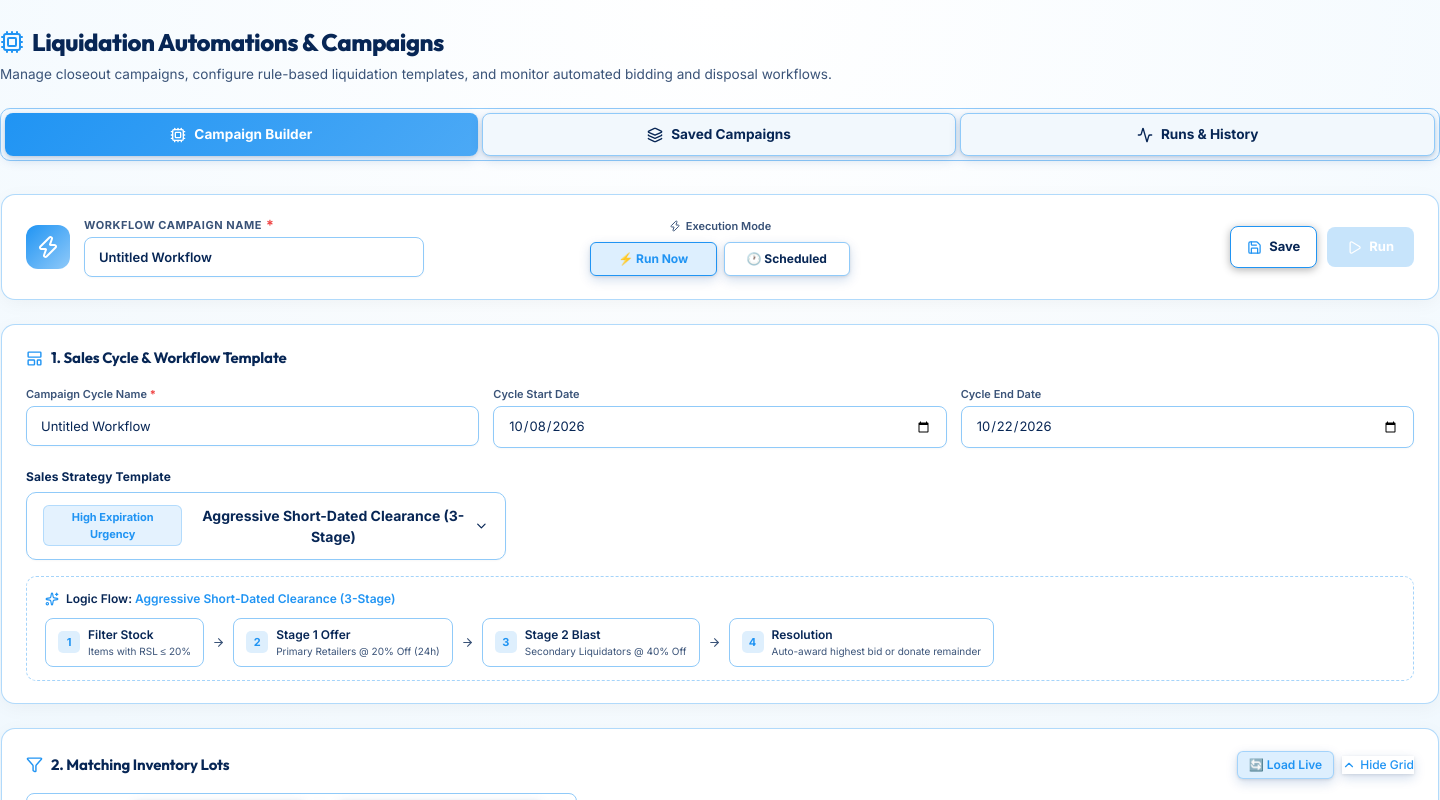
Issue #40 Integration: WorkflowsView & Campaign Studio › should open Matched Inventory Scope modal with in-modal search and close via footer
Click the button "Saved Campaigns".
click(719, 135)  # box [482,113,956,156]
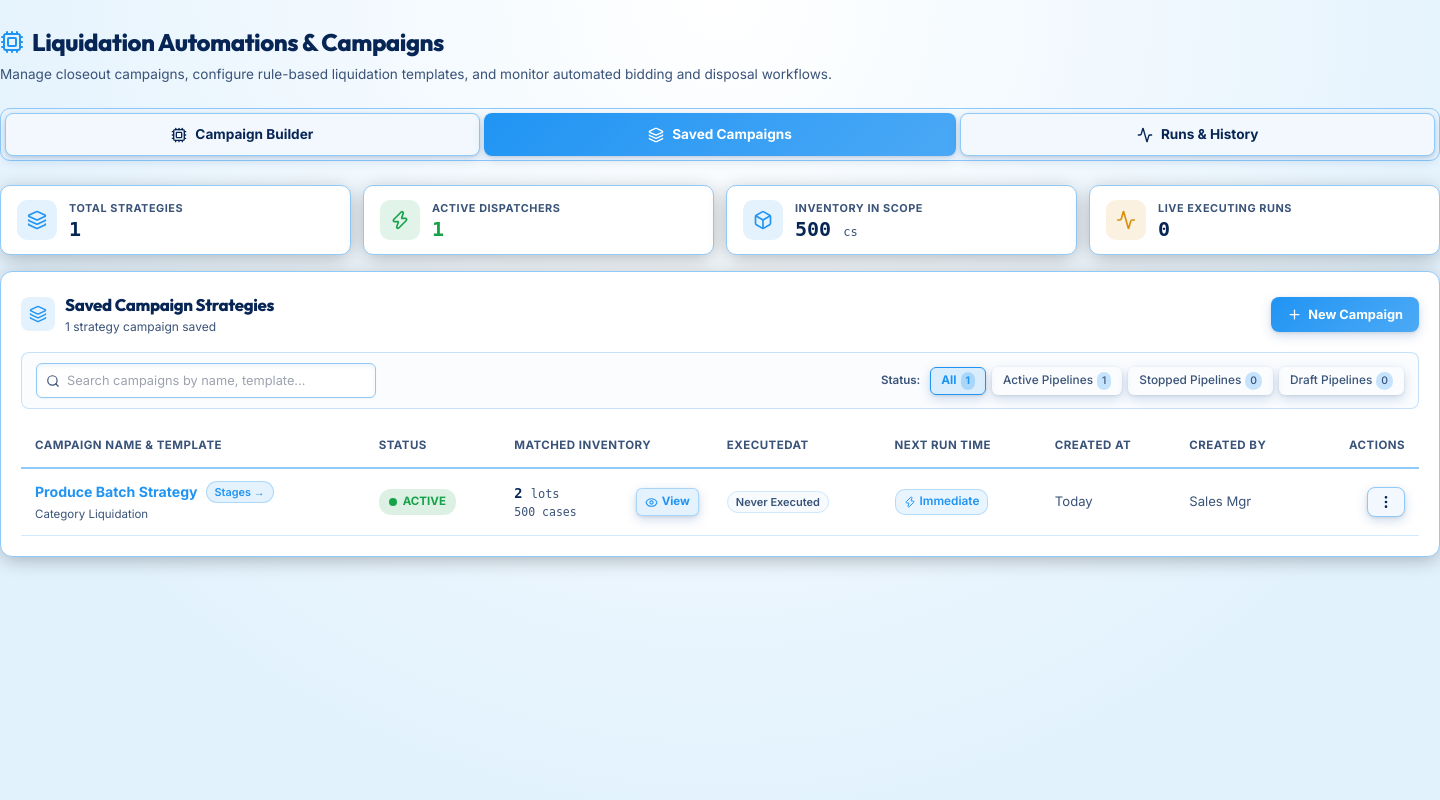
# Click View button in Matched Inventory column
Click the button "View".
click(667, 502)  # box [636,488,699,516]
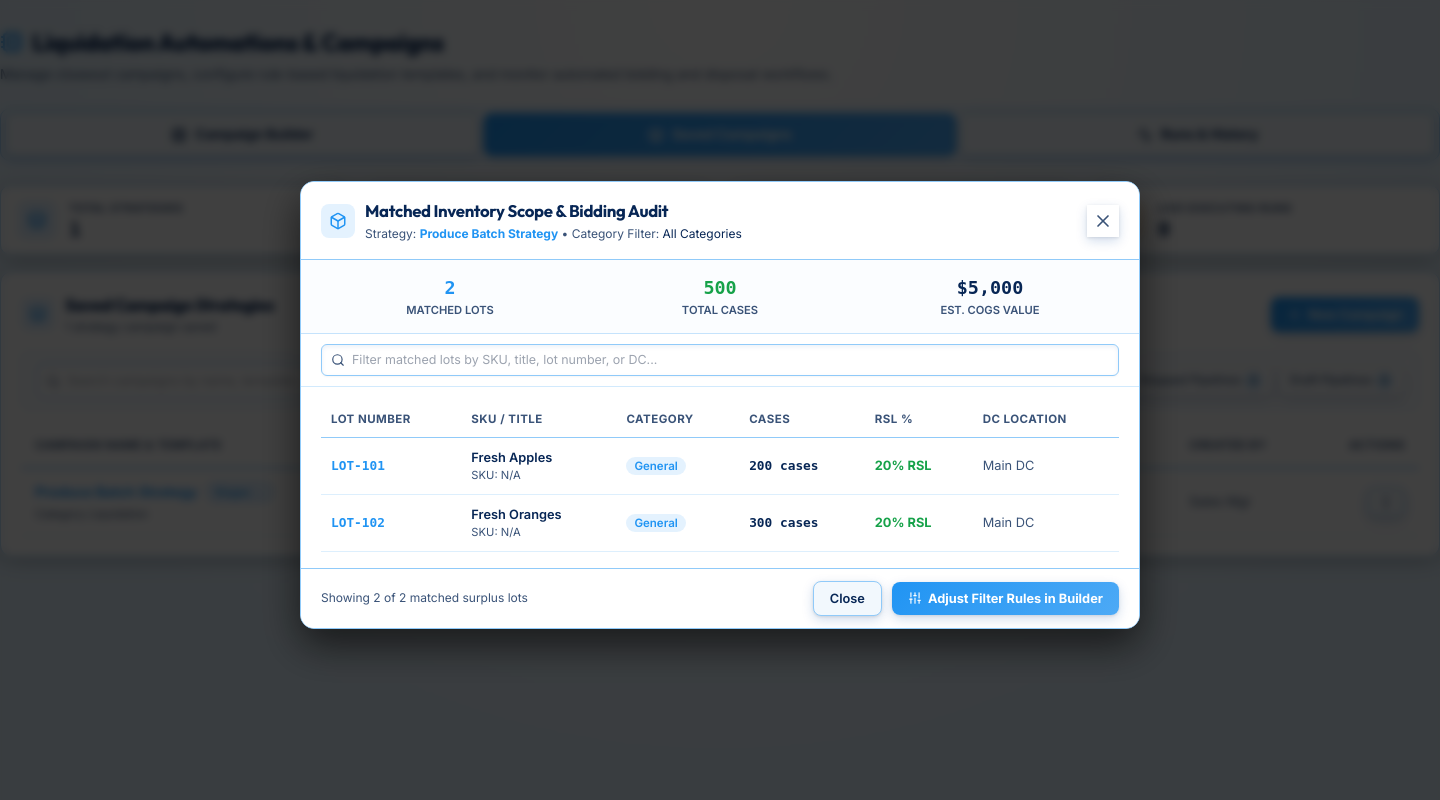
expect the heading "Matched Inventory Scope & Bidding Audit" is shown: met, box [365,200,668,221]
expect the text "LOT-101" is shown: met, box [321,437,461,494]
expect the text "LOT-102" is shown: met, box [321,494,461,551]
# Test in-modal search
Type "Oranges" into the field with placeholder "Filter matched lots by SKU, title, lot number, or DC...".
click(720, 360); type("Oranges")  # box [321,344,1119,376]
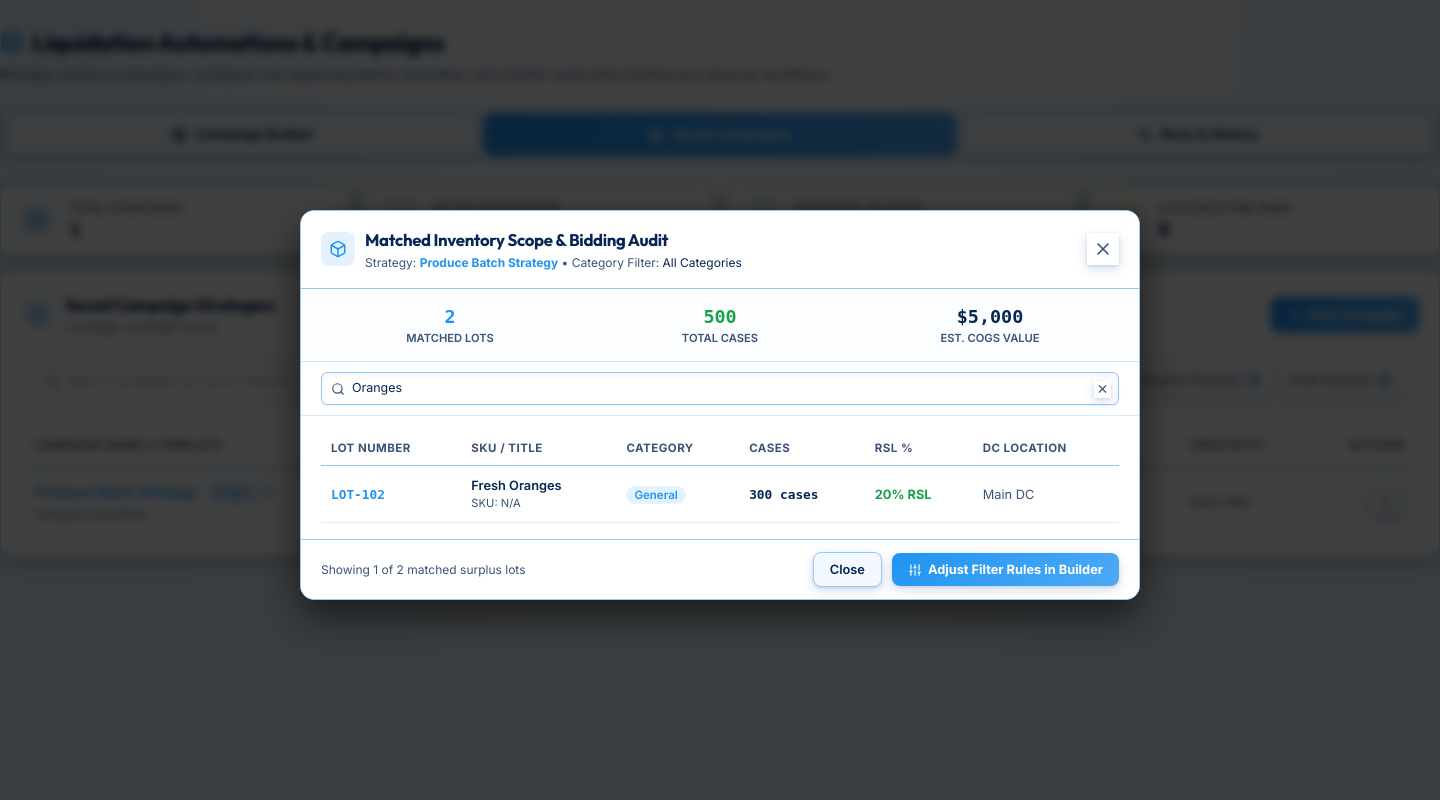
expect the text "LOT-102" is shown: met, box [321,466,461,523]
expect the text "LOT-101" is gone: met
# Click Close from the ergonomic modal footer
Click the button "Close".
click(847, 570)  # box [813,552,882,587]
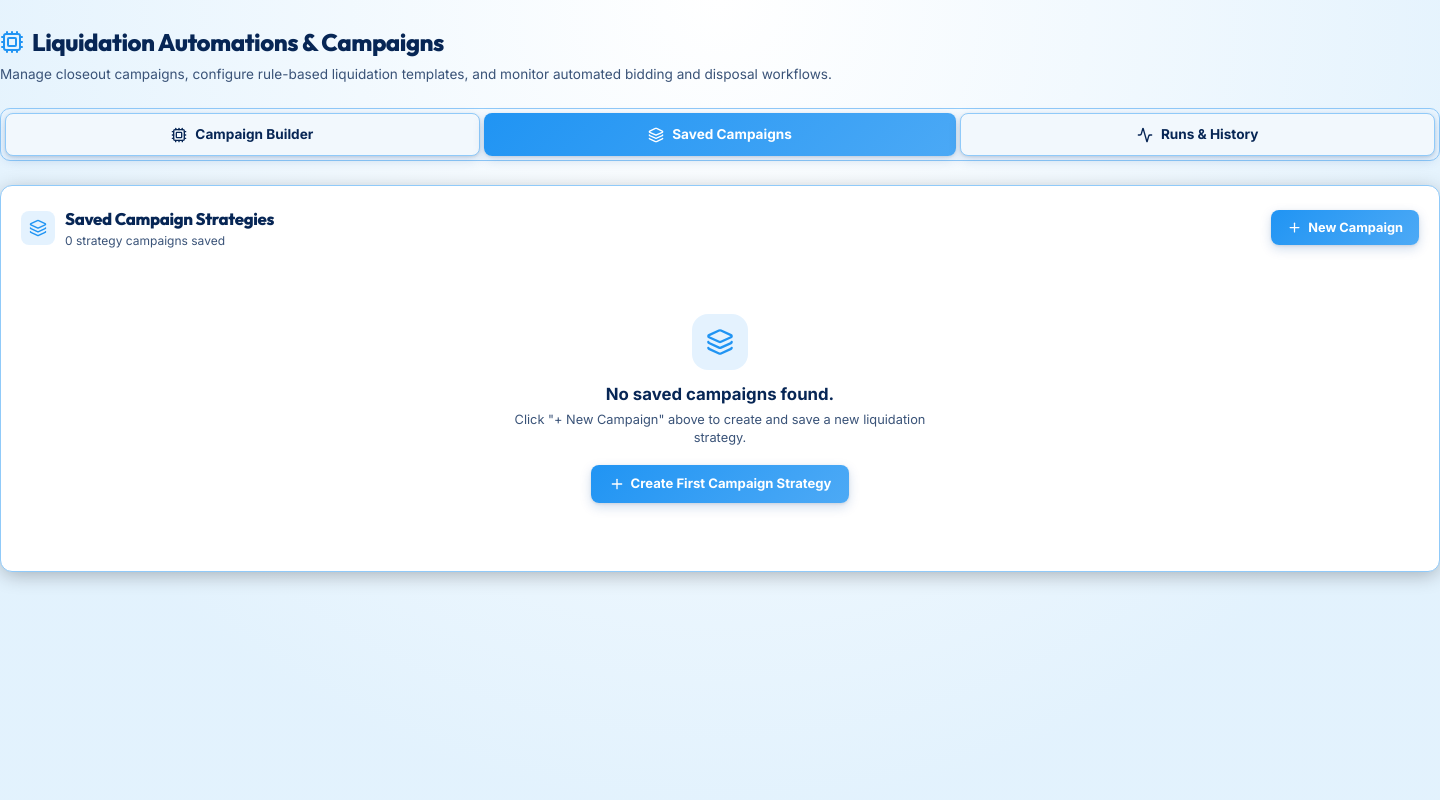
expect the heading "Matched Inventory Scope & Bidding Audit" is gone: met
